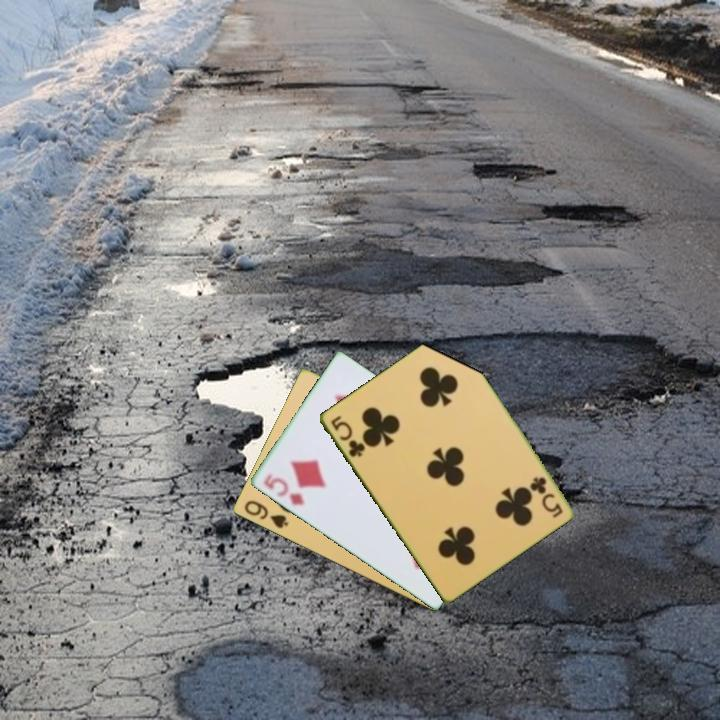5c: (327, 412, 368, 460), (527, 473, 565, 521)
5d: (260, 470, 307, 509)
9s: (240, 497, 291, 532)
